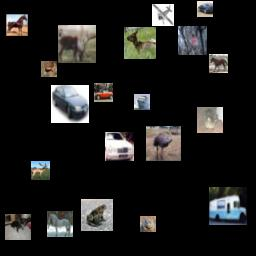airplane: (152, 4, 174, 26)
automobile: (51, 85, 89, 123), (105, 132, 134, 161), (94, 83, 113, 102), (197, 1, 213, 17)
bird: (146, 126, 181, 161), (178, 26, 207, 55)
cat: (197, 107, 223, 133)
deer: (58, 25, 96, 63), (124, 27, 156, 59), (31, 161, 50, 180)
dog: (5, 214, 31, 240)
frog: (81, 199, 113, 231), (140, 216, 156, 232), (41, 61, 57, 77)
ship: (134, 94, 150, 110)
truck: (209, 187, 247, 225)
